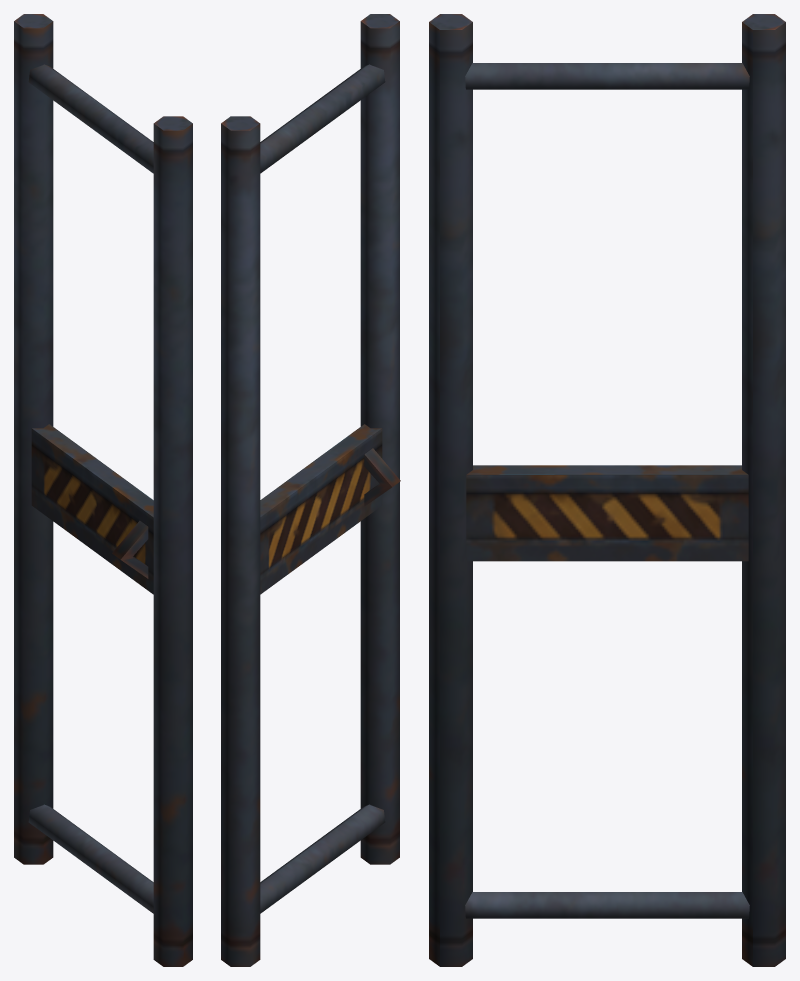
File: WireMeshDoorL.FBX
3 views of the same model, side by side, from view 1: azimuth 30°, elevation 25°; view 2: azimuth 150°, elevation 25°; view 3: azimuth 270°, elevation 25° (orthographic). The views are drawn at different scales.
Visible parts, largest first — view 1: WireMeshDoorL; view 2: WireMeshDoorL; view 3: WireMeshDoorL.
Boxes of the visible parts, left/top/right/bottom form: WireMeshDoorL: left=14, top=14, right=192, bottom=966; WireMeshDoorL: left=221, top=14, right=400, bottom=966; WireMeshDoorL: left=429, top=14, right=785, bottom=966.
Bounding box in the file's own units: 0.1825 × 2.84 × 0.9787.
1 material, 1 textured.
